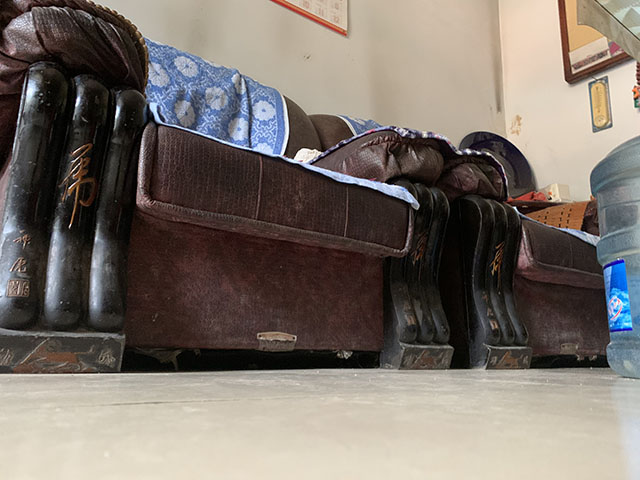sofa: (1, 1, 610, 375)
